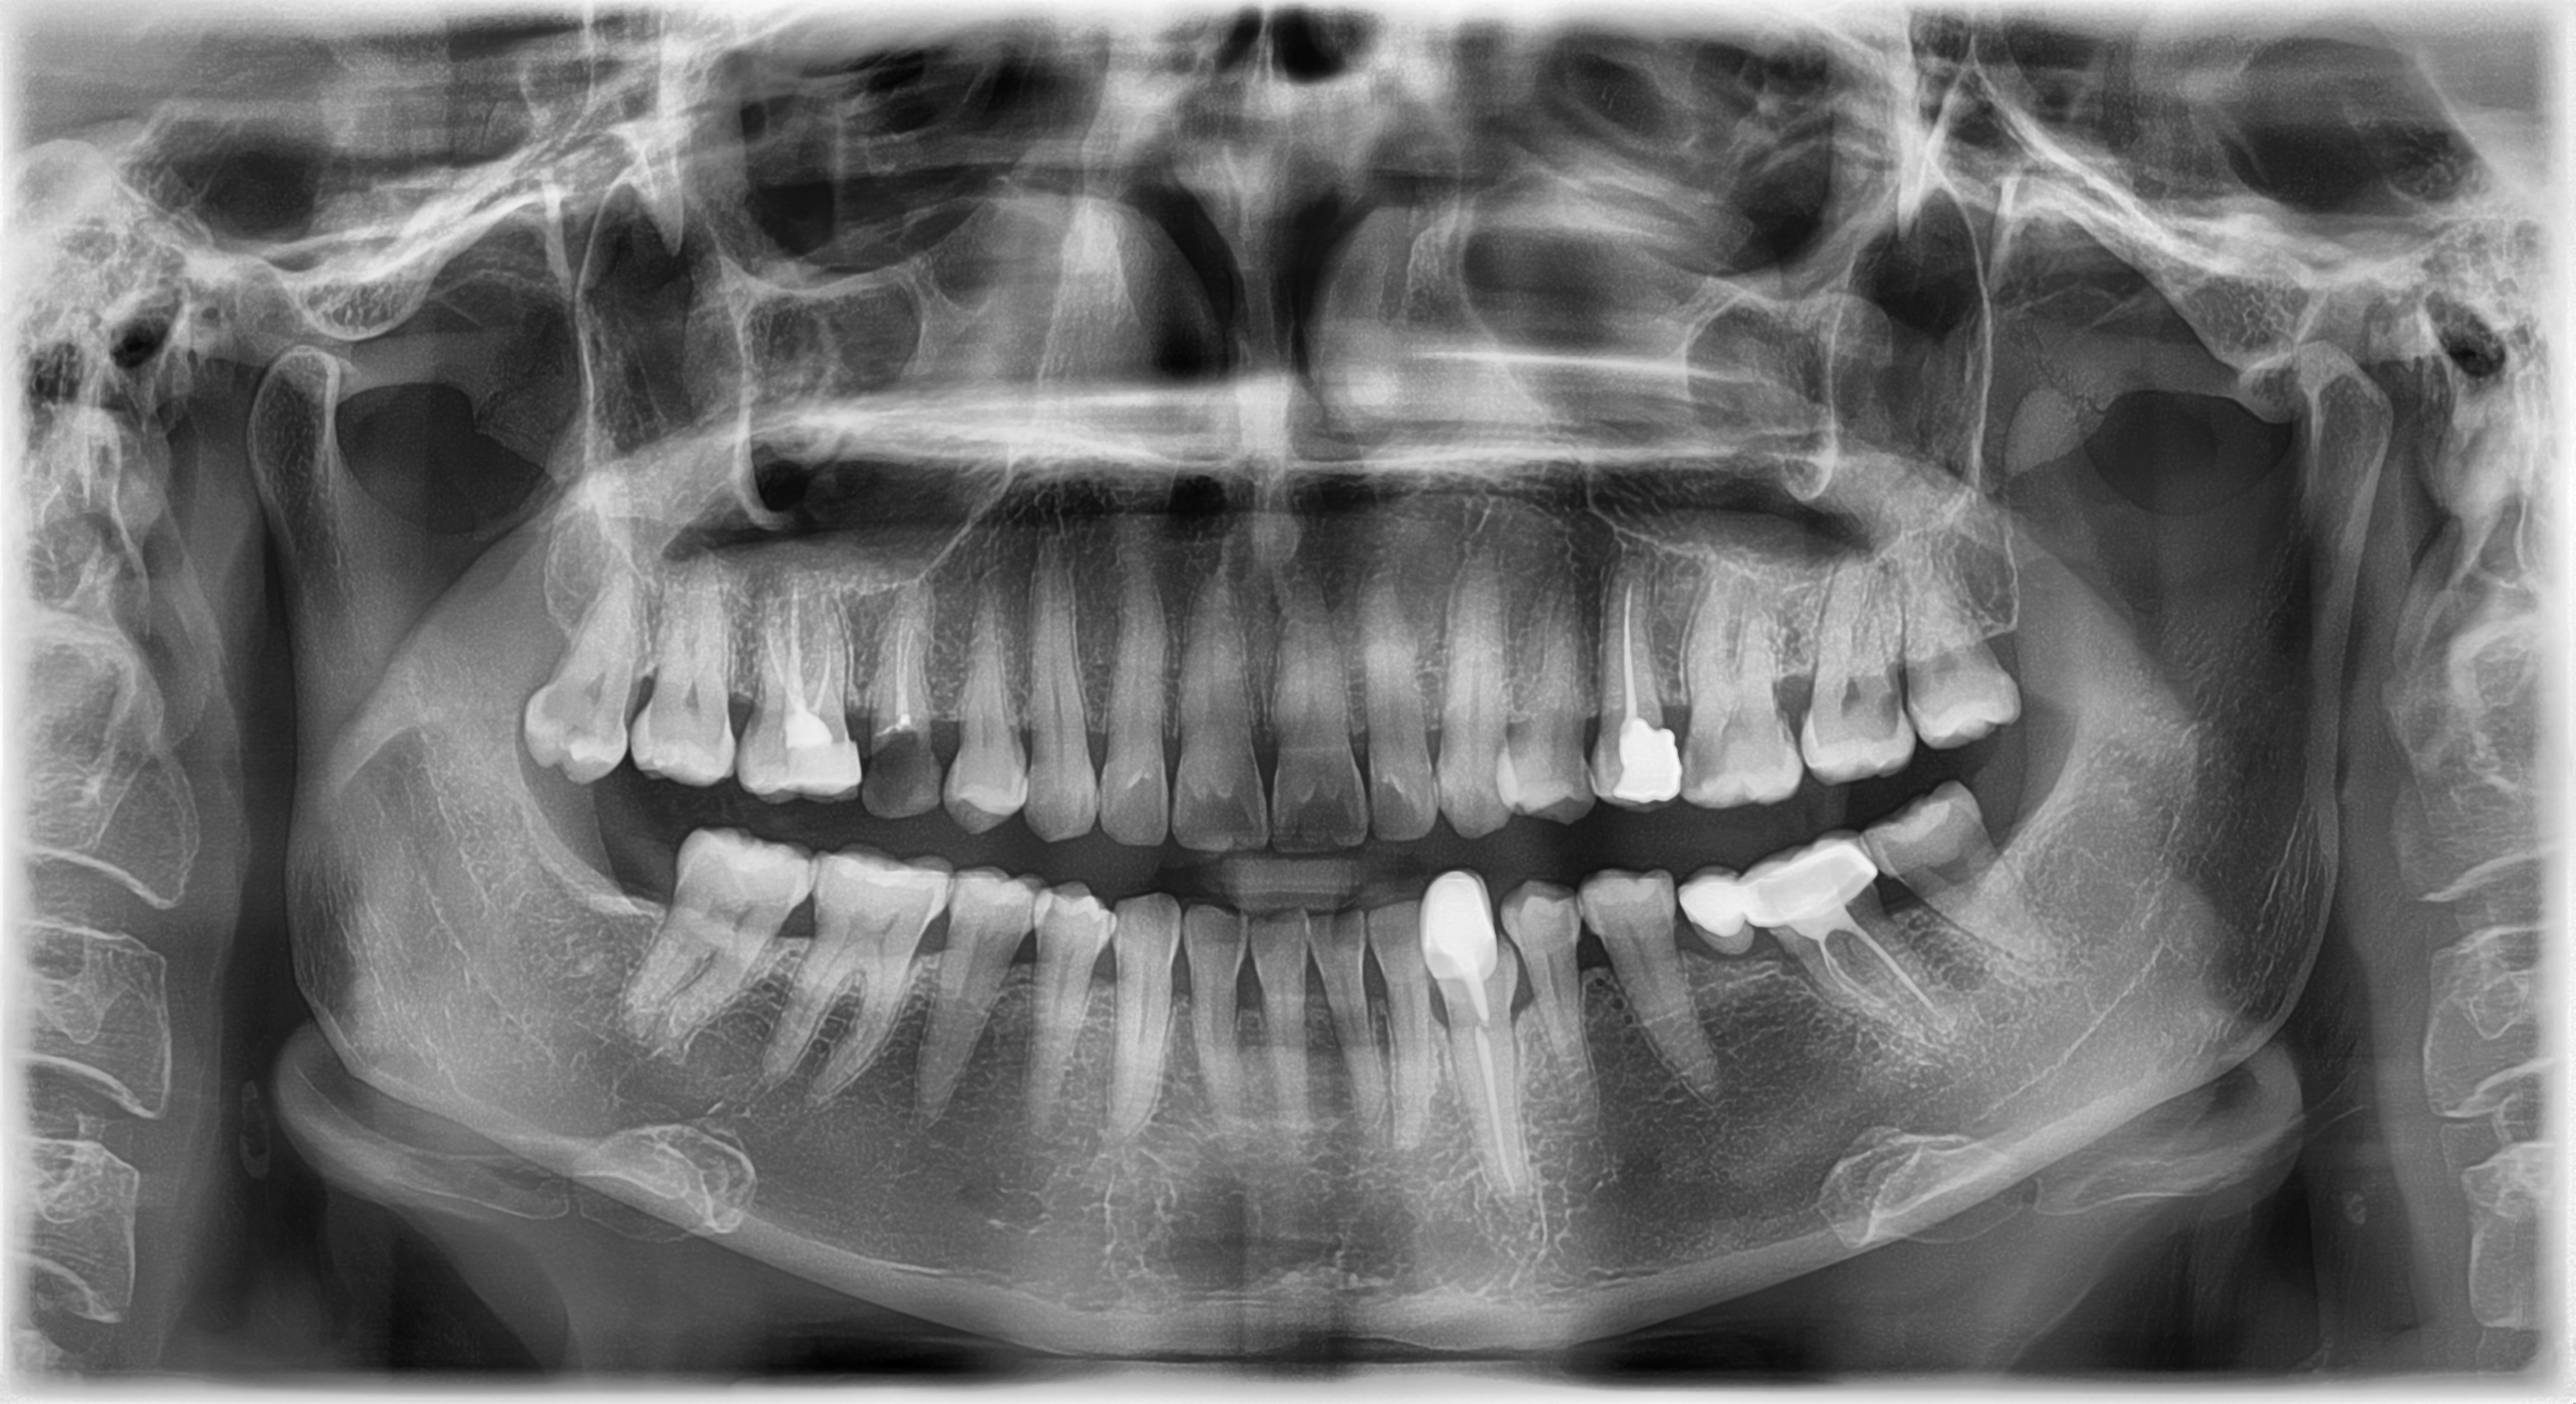cordal: (496, 555, 660, 797), (1879, 527, 2044, 768)
tratamiento_conducto: (1729, 799, 1940, 1091), (1559, 546, 1718, 821), (717, 553, 877, 826)
zona_dentula: (1653, 833, 1845, 1075)
